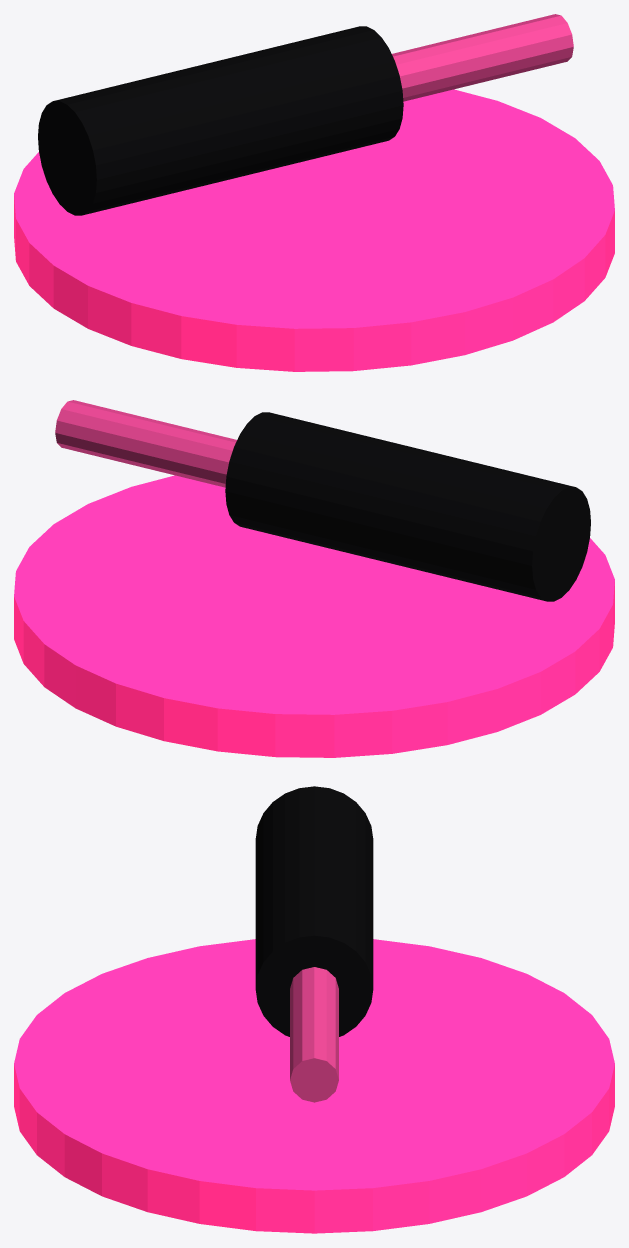
File: beauty_mascara.dae
The picture shows the model from 3 angles, top to bottom: view 1: azimuth 30°, elevation 25°; view 2: azimuth 150°, elevation 25°; view 3: azimuth 270°, elevation 25°; orthographic projection.
Parts seen in each view (by area): view 1: 03_07_Popular_Beauty_Mascara_ROOT_base, 03_07_Popular_Beauty_Mascara_part_01, 03_07_Popular_Beauty_Mascara_part_02; view 2: 03_07_Popular_Beauty_Mascara_ROOT_base, 03_07_Popular_Beauty_Mascara_part_01, 03_07_Popular_Beauty_Mascara_part_02; view 3: 03_07_Popular_Beauty_Mascara_ROOT_base, 03_07_Popular_Beauty_Mascara_part_01, 03_07_Popular_Beauty_Mascara_part_02.
Part boxes in pixels (box(x1,y1,x2,y2)): 03_07_Popular_Beauty_Mascara_ROOT_base: box(14, 89, 614, 371); 03_07_Popular_Beauty_Mascara_part_01: box(38, 26, 403, 215); 03_07_Popular_Beauty_Mascara_part_02: box(392, 14, 573, 101); 03_07_Popular_Beauty_Mascara_ROOT_base: box(14, 475, 614, 757); 03_07_Popular_Beauty_Mascara_part_01: box(225, 412, 590, 601); 03_07_Popular_Beauty_Mascara_part_02: box(55, 400, 236, 487); 03_07_Popular_Beauty_Mascara_ROOT_base: box(14, 939, 614, 1233); 03_07_Popular_Beauty_Mascara_part_01: box(255, 786, 373, 1036); 03_07_Popular_Beauty_Mascara_part_02: box(290, 967, 338, 1102).
Size of the model in its own units: 0.76 by 0.279 by 0.76.
